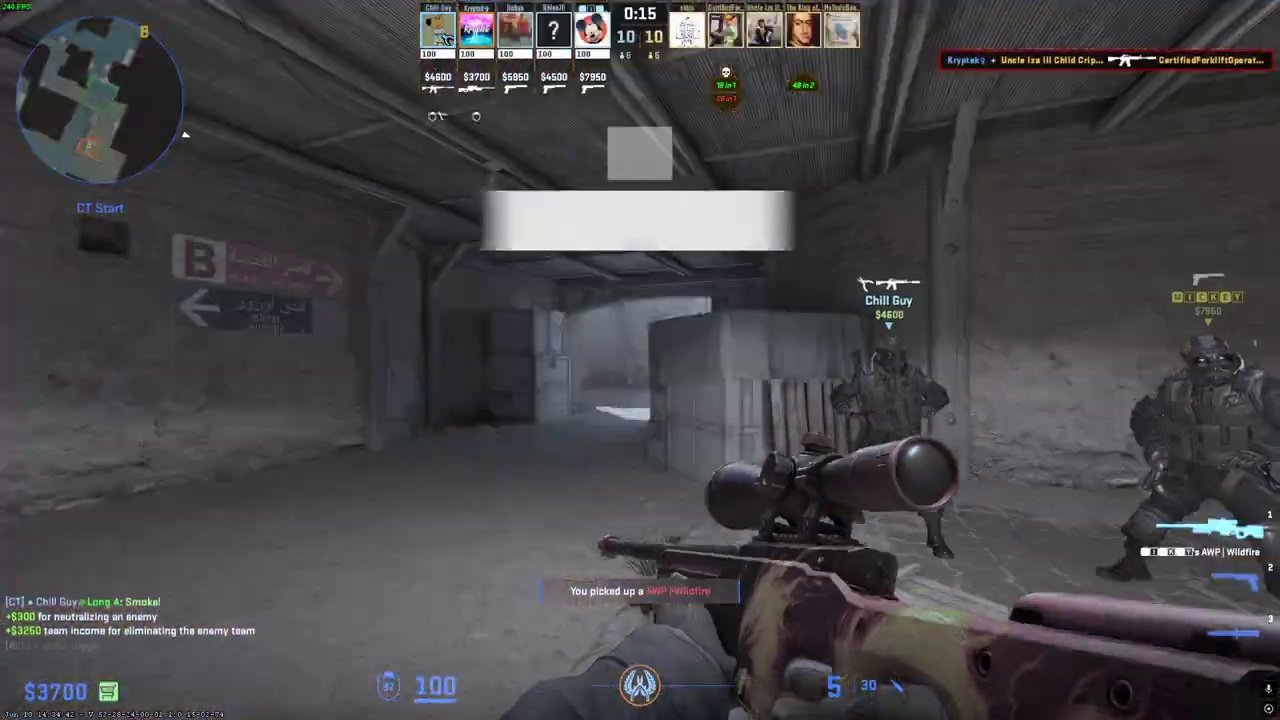CT: (1137, 332, 1279, 622), (840, 335, 937, 454)
